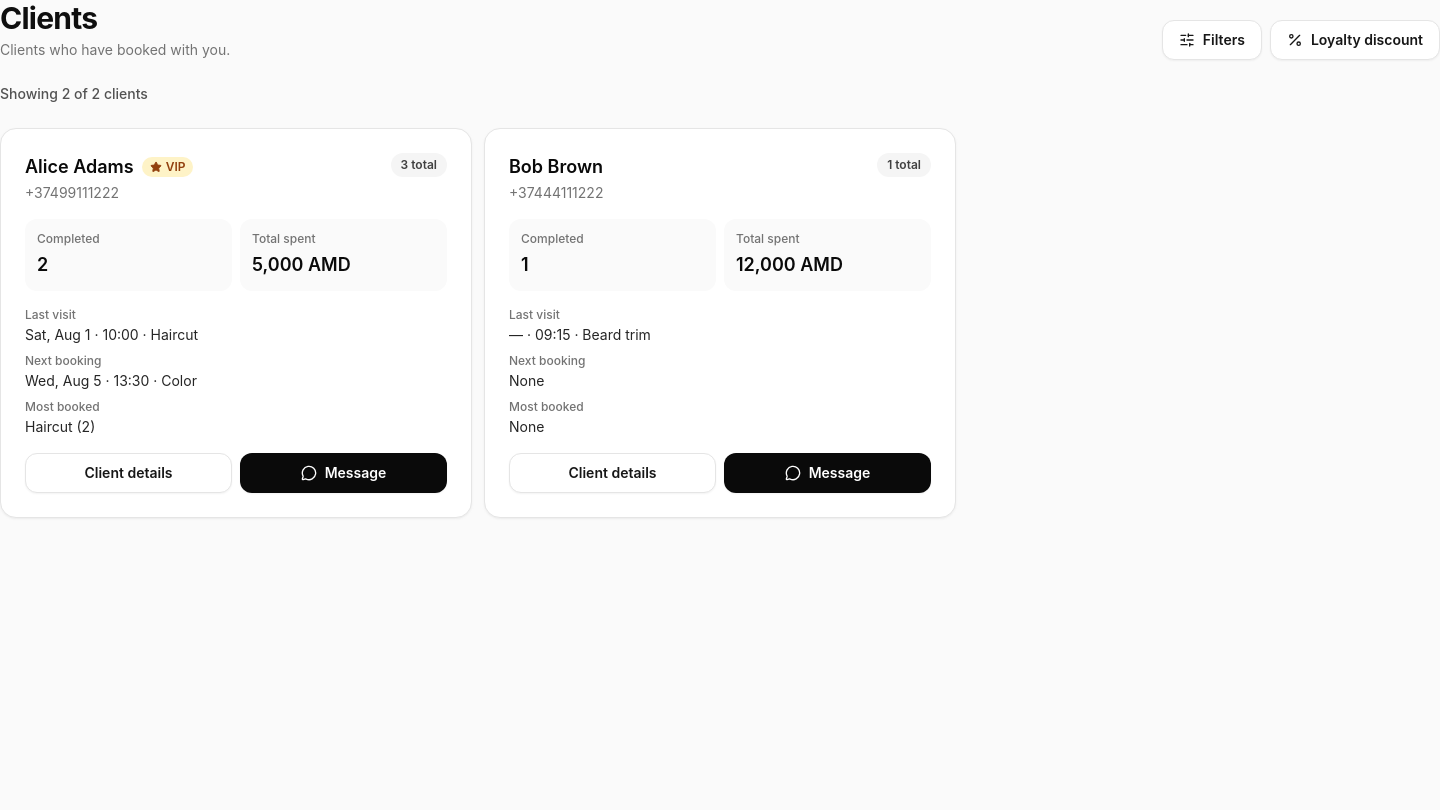
Scenario: ClientsPage › keeps private internal notes inside the client drawer only
The width and height of the screenshot is (1440, 810).
Check: the heading "Alice Adams" is shown, box [25,153,134,181]
Check: the text "Private note" is not shown
Click the button "Client details" below "Haircut (2)" at (128, 473), box [25,453,232,493]
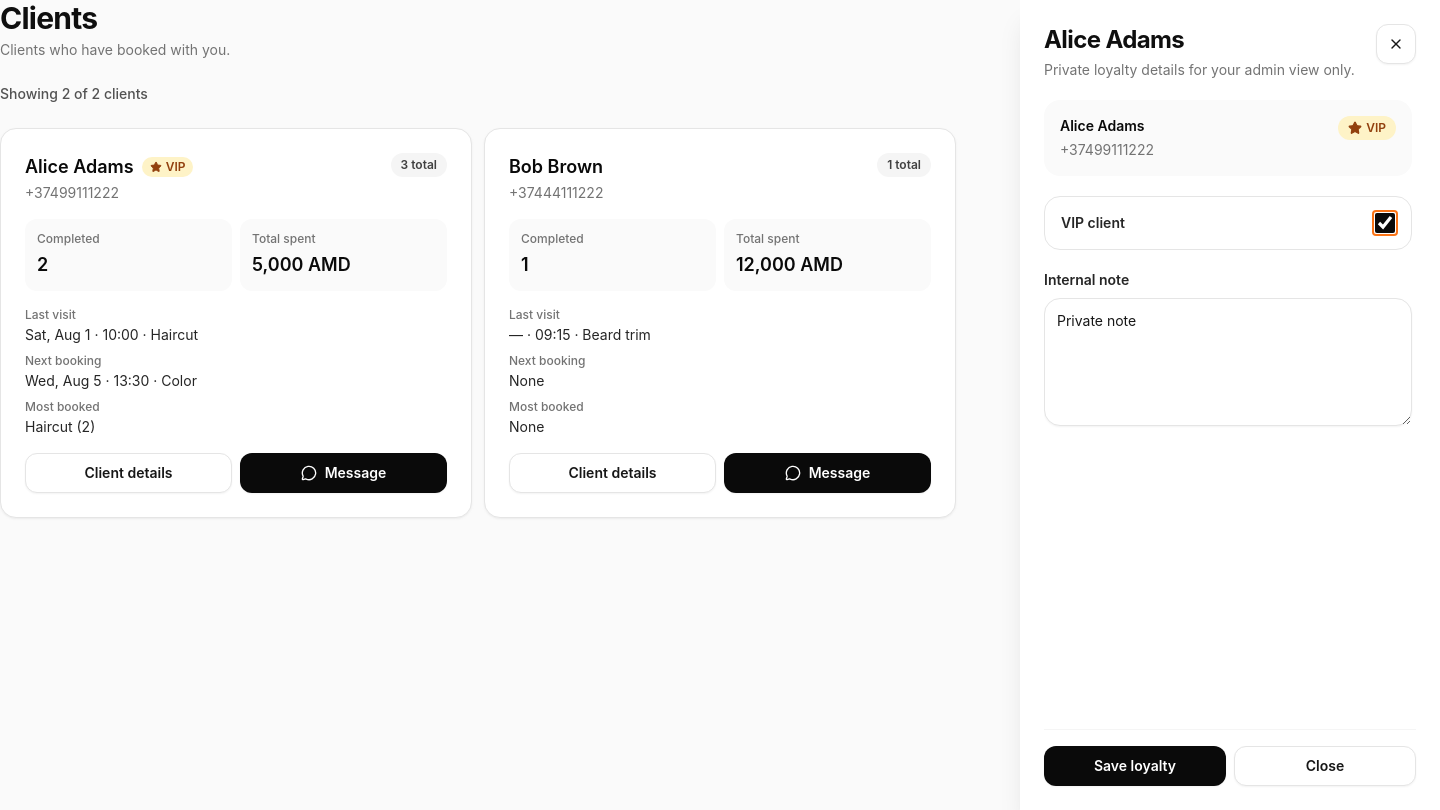
Check: the text box showing "Private note" is shown, box [1044,298,1412,426]
